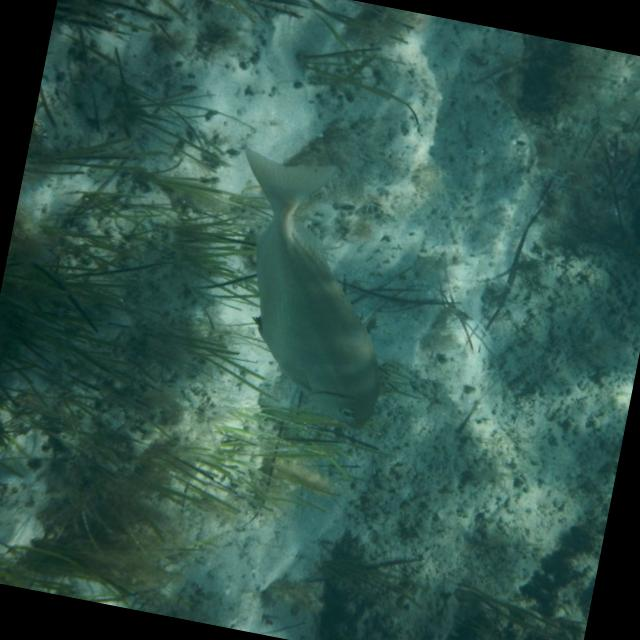Sokar Baligi: (180, 132, 436, 440)
